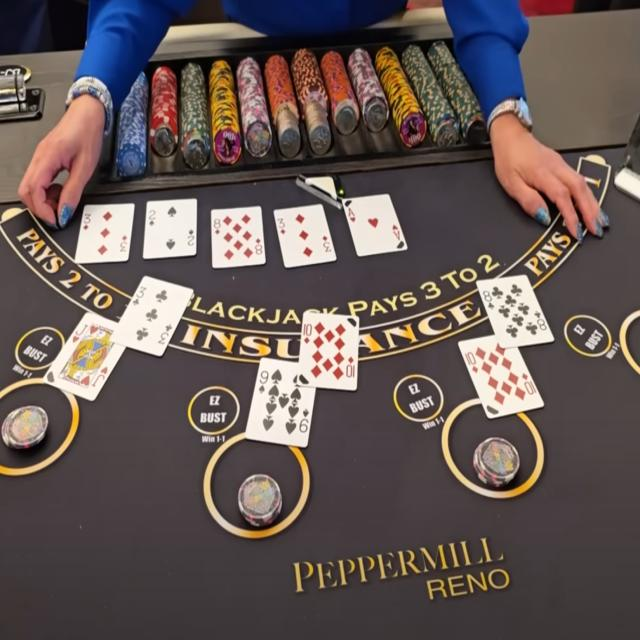10: (302, 319, 314, 337), (464, 350, 477, 366)
2: (148, 208, 158, 221)
3: (136, 282, 147, 299), (276, 215, 287, 229), (83, 211, 93, 225)
8: (481, 288, 493, 302), (212, 216, 222, 229)
9: (257, 368, 270, 385)
A: (345, 207, 358, 218)
J: (76, 322, 88, 338)
